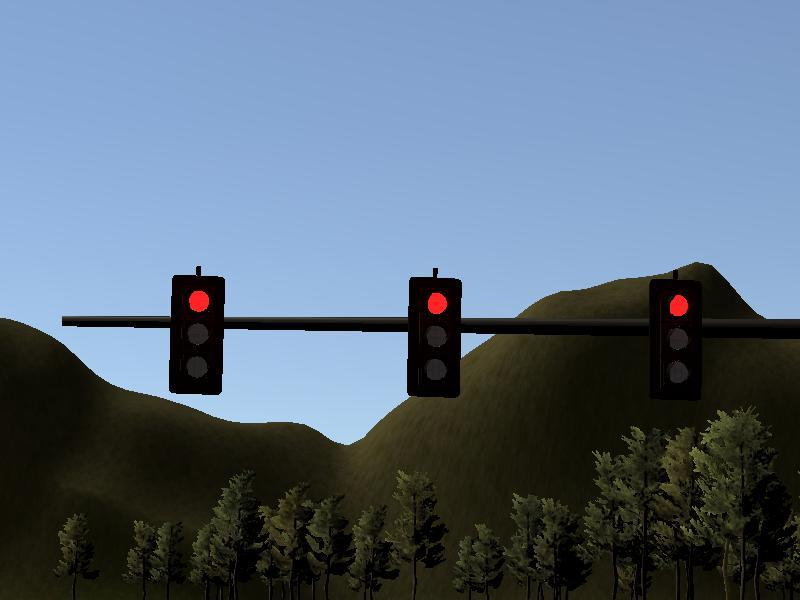Red: (173, 277, 221, 395), (412, 278, 459, 395), (652, 282, 701, 390)
